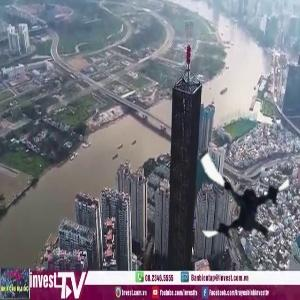drone: (184, 139, 299, 254)
